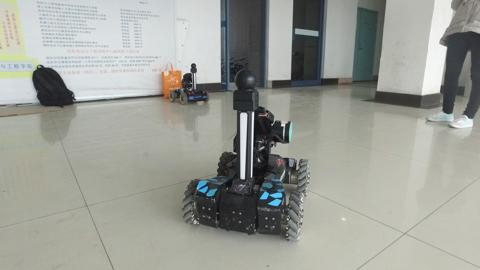bag: (30, 62, 77, 108), (159, 60, 183, 99)
chariot: (180, 68, 311, 242), (166, 63, 210, 104)
